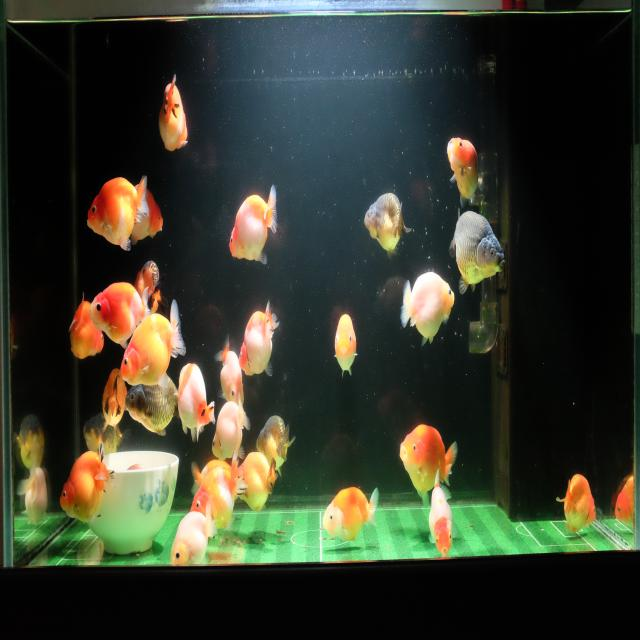Goldfish: (119, 298, 186, 387), (85, 173, 150, 255), (399, 422, 459, 508), (57, 442, 116, 527), (448, 211, 505, 297), (88, 278, 152, 351), (399, 270, 455, 348), (228, 182, 278, 269), (190, 449, 240, 532), (123, 372, 178, 438), (363, 190, 412, 262), (168, 498, 218, 568), (238, 298, 280, 381), (324, 484, 379, 544), (176, 362, 214, 440), (209, 395, 252, 462), (237, 450, 279, 518), (255, 412, 298, 478), (156, 73, 189, 156), (81, 410, 134, 461), (446, 134, 481, 210), (556, 472, 596, 538), (68, 290, 104, 362), (215, 332, 247, 410), (15, 464, 50, 532), (428, 467, 454, 558), (131, 258, 171, 317), (132, 182, 164, 246), (13, 412, 45, 472), (332, 312, 359, 379), (100, 368, 125, 434), (614, 475, 634, 540)
